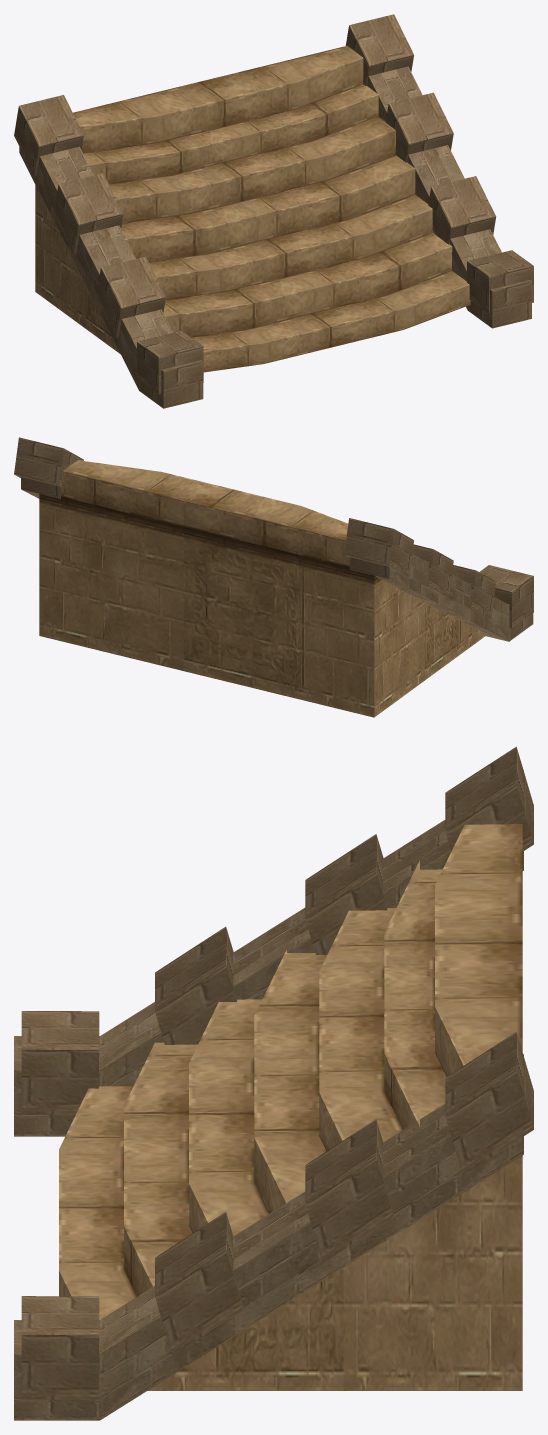
File: environment_Building_fenghuotai_c.FBX
3 views of the same model, one above another, from view 1: azimuth 30°, elevation 25°; view 2: azimuth 150°, elevation 25°; view 3: azimuth 270°, elevation 25° (orthographic). The views are drawn at different scales.
Visible parts, largest first — view 1: environment_Building_fenghuotai_c01, environment_Building_fenghuotai_c02; view 2: environment_Building_fenghuotai_c01, environment_Building_fenghuotai_c02; view 3: environment_Building_fenghuotai_c01, environment_Building_fenghuotai_c02.
Part boxes in pixels (x1=…): environment_Building_fenghuotai_c01: x1=35, y1=45, x2=470, y2=372; environment_Building_fenghuotai_c02: x1=14, y1=14, x2=533, y2=408; environment_Building_fenghuotai_c01: x1=39, y1=460, x2=486, y2=717; environment_Building_fenghuotai_c02: x1=14, y1=437, x2=533, y2=641; environment_Building_fenghuotai_c01: x1=59, y1=824, x2=522, y2=1390; environment_Building_fenghuotai_c02: x1=14, y1=746, x2=533, y2=1420.
Size of the model in its own units: 68.51 by 46.46 by 34.85.
